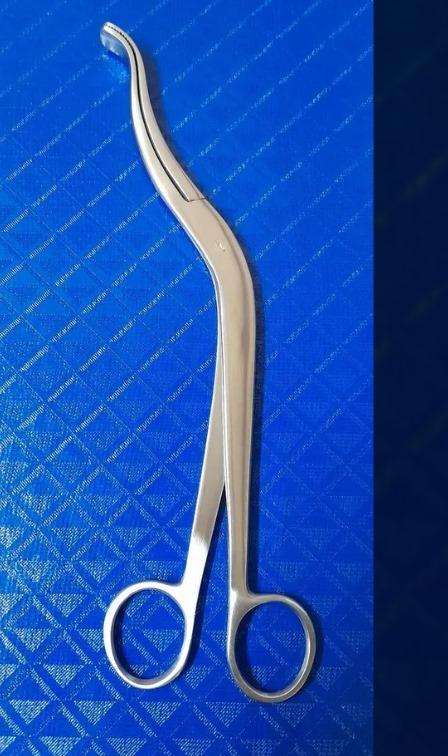Cheatle Forceps: (69, 18, 332, 704)
